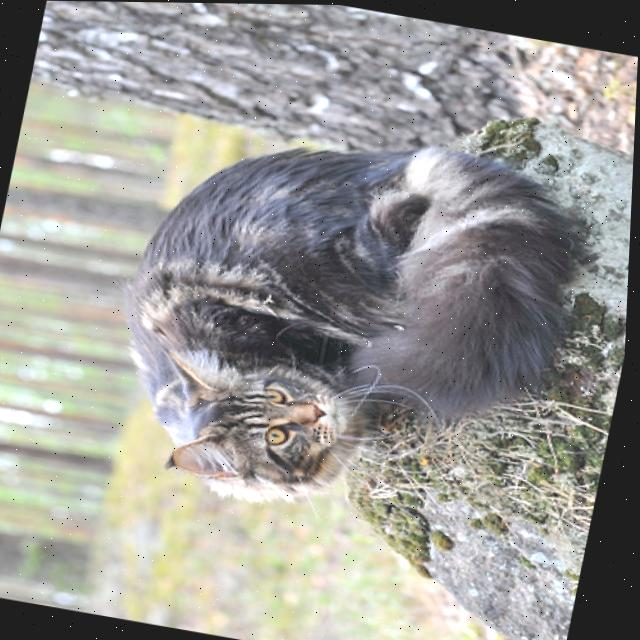Maine Coon: (87, 96, 597, 546)
